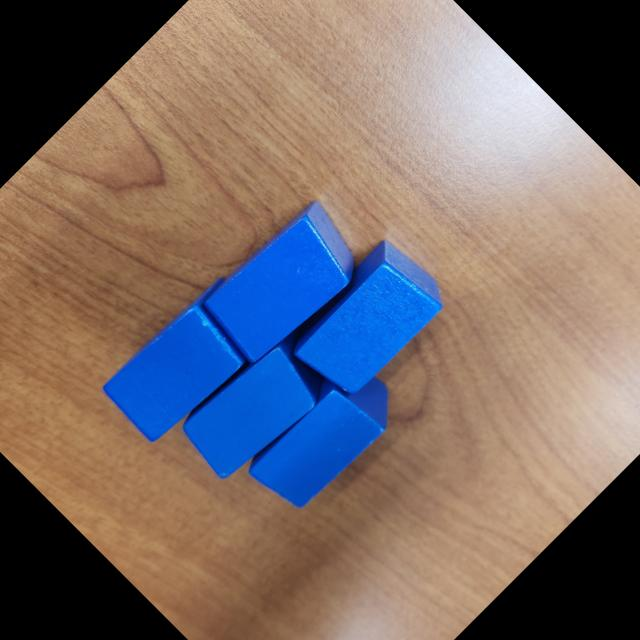blue: (96, 270, 278, 452), (194, 192, 374, 372), (276, 230, 454, 408), (236, 349, 409, 522), (171, 319, 342, 490)
